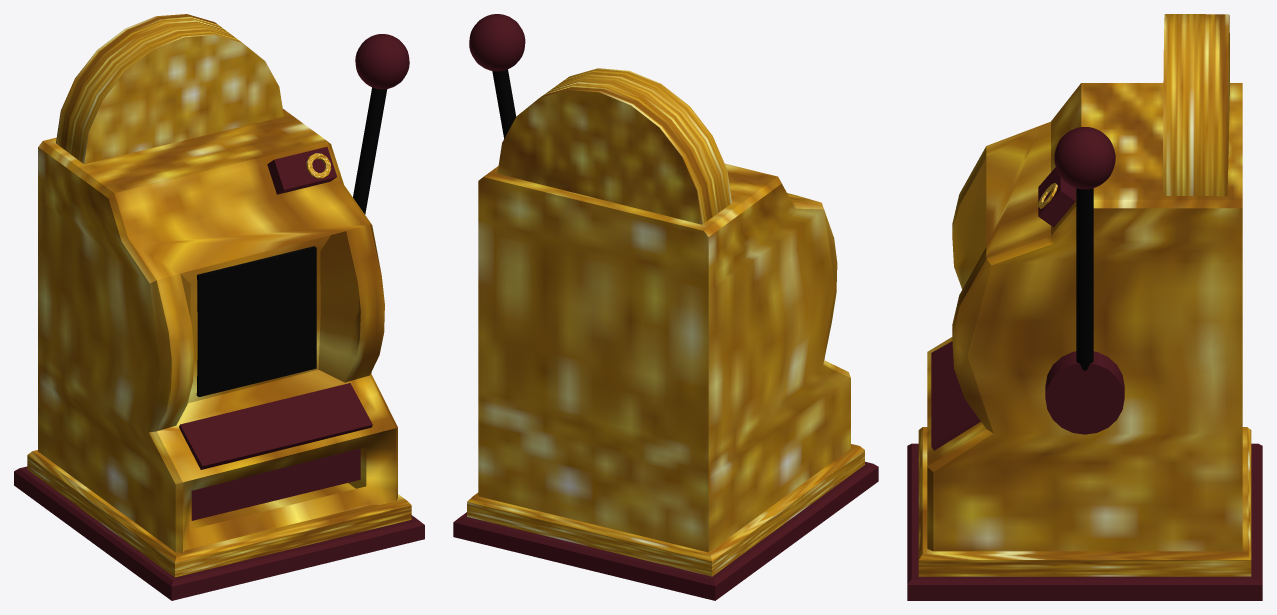
File: Red and gold slot machine.fbx
The picture shows the model from 3 angles, left to right: view 1: azimuth 30°, elevation 25°; view 2: azimuth 150°, elevation 25°; view 3: azimuth 270°, elevation 25°; orthographic projection. The views are drawn at different scales.
Parts seen in each view (by area): view 1: pCube3, pCylinder2, pCube24, pCube1, pCube4, pCube25, pCube23, Ball_Handle, pCube5, Arm_post; view 2: pCube3, pCylinder2, pCube1, pCube4, Ball_Handle, Arm_post; view 3: pCube3, pCube1, pCylinder2, pCube4, Arm_Pivot, Arm_post, pCube25, Ball_Handle, pCube5.
Part boxes in pixels (x1,y1,x2,y2): pCube3: [38, 109, 397, 552]; pCylinder2: [56, 14, 283, 164]; pCube24: [196, 246, 316, 396]; pCube1: [14, 466, 424, 600]; pCube4: [27, 450, 411, 577]; pCube25: [179, 383, 372, 469]; pCube23: [191, 448, 360, 520]; Ball_Handle: [355, 34, 409, 89]; pCube5: [267, 147, 337, 194]; Arm_post: [353, 87, 387, 214]; pCube3: [478, 163, 850, 552]; pCylinder2: [497, 68, 731, 224]; pCube1: [453, 461, 878, 600]; pCube4: [467, 444, 864, 576]; Ball_Handle: [469, 14, 525, 71]; Arm_post: [492, 69, 516, 138]; pCube3: [927, 83, 1242, 551]; pCube1: [907, 443, 1262, 600]; pCylinder2: [1163, 14, 1229, 196]; pCube4: [918, 427, 1251, 576]; Arm_Pivot: [1045, 351, 1124, 434]; Arm_post: [1076, 188, 1093, 370]; pCube25: [931, 341, 980, 450]; Ball_Handle: [1054, 127, 1115, 189]; pCube5: [1038, 167, 1075, 227].
Bounding box in the file's own units: 0.8233 × 1.13 × 0.7184.
Materials: 4 (1 with a texture image).
